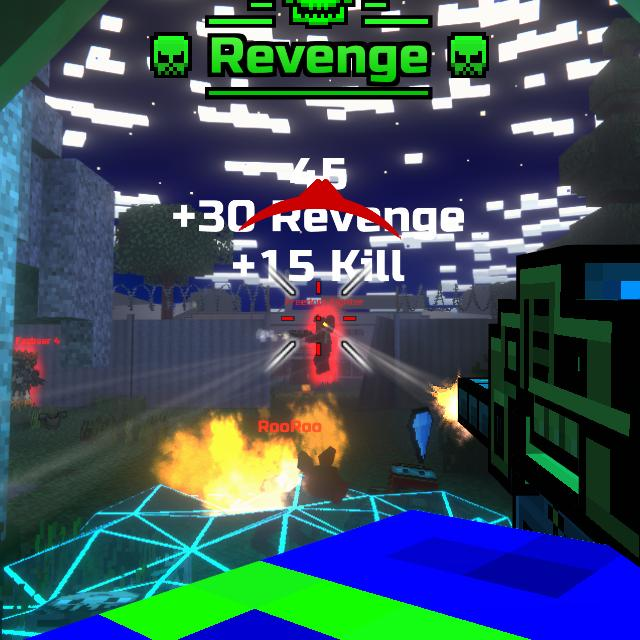Enemy: (303, 315, 334, 375), (14, 352, 42, 408)
